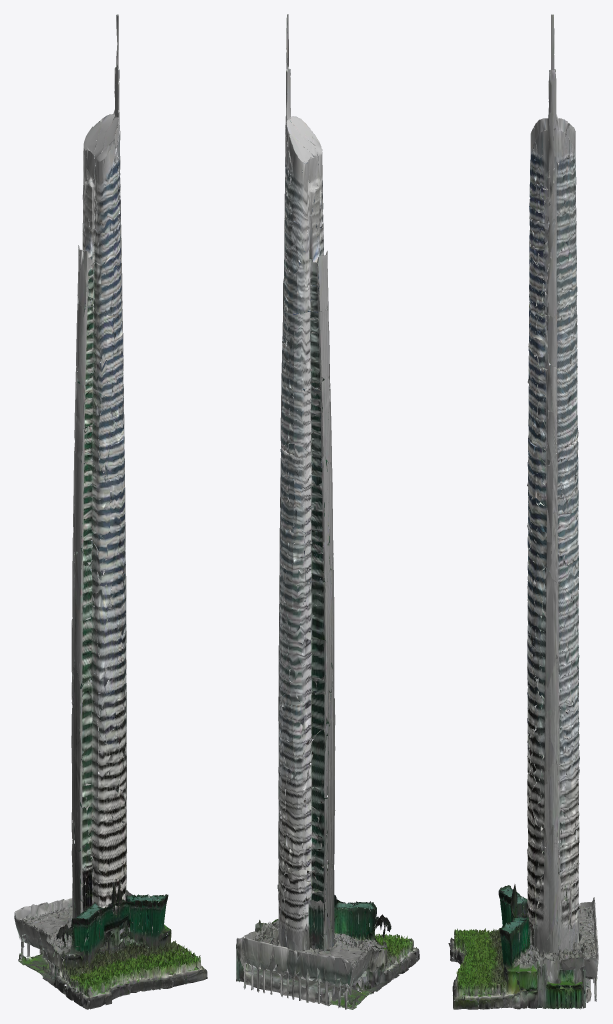
The model's file is almas-tower.glb.
The picture shows the model from 3 angles, left to right: view 1: azimuth 30°, elevation 25°; view 2: azimuth 150°, elevation 25°; view 3: azimuth 270°, elevation 25°; orthographic projection. The views are drawn at different scales.
Parts seen in each view (by area): view 1: Mesh_0; view 2: Mesh_0; view 3: Mesh_0.
Boxes of the visible parts, x1,y1,x2,y2 form: Mesh_0: (14,14,207,1009); Mesh_0: (236,14,419,1009); Mesh_0: (448,14,598,1009).
Bounding box in the file's own units: 50 × 360 × 50.
1 material, 1 textured.
